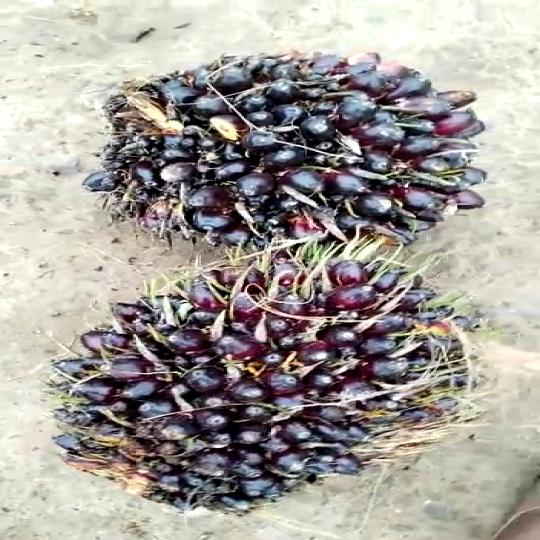mentah: (56, 264, 454, 515), (96, 44, 496, 258)
